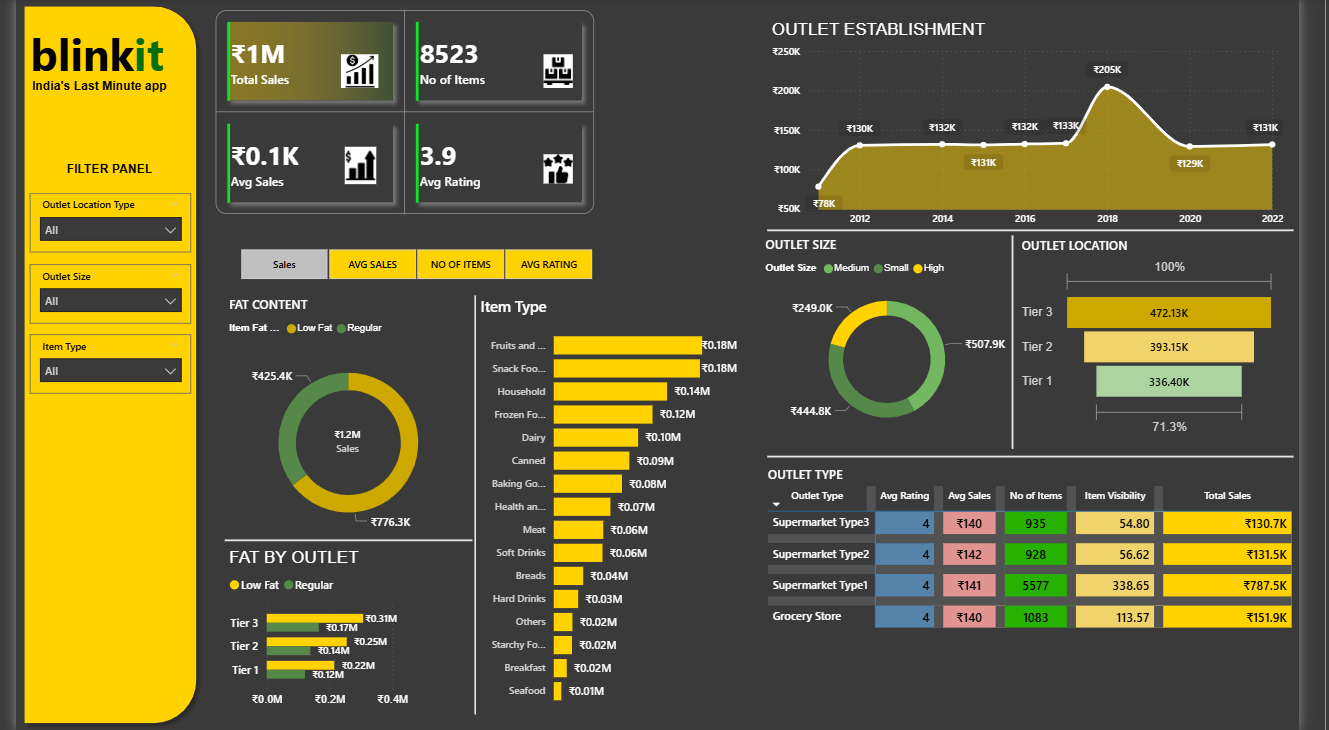

This screenshot's page, from the dashboard's own definition file:
{"tool":"powerbi","page":{"name":"Page 1","canvas":[1400,800],"ordinal":0},"visuals":[{"type":"shape","box":[0,0,205.7,800],"z":0},{"type":"textbox","box":[11,23,174,75],"z":1000},{"type":"textbox","box":[11,83,164,29],"z":2000},{"type":"cardVisual","fields":{"Data":["BlinkIT Grocery Data.Total Sales","BlinkIT Grocery Data.Number of Items","BlinkIT Grocery Data.Average sales","BlinkIT Grocery Data.Average rating"]},"box":[211,7,426,235],"z":3000},{"type":"image","box":[354,61,41,37],"z":4000},{"type":"image","box":[358,162,34,41],"z":5000},{"type":"image","box":[575,171,32,32],"z":6000},{"type":"image","box":[575,61,32,37],"z":7000},{"type":"donutChart","title":"FAT CONTENT","fields":{"Y":["BlinkIT Grocery Data.Total Sales"],"Category":["BlinkIT Grocery Data.Item Fat Content"]},"box":[227,324,270,276],"z":9000},{"type":"slicer","fields":{"Values":["Metrics.Metrics"]},"box":[220,267,433,46],"z":10000},{"type":"cardVisual","fields":{"Data":["BlinkIT Grocery Data.Total Sales"]},"box":[309,455,104,55],"z":11000},{"type":"clusteredBarChart","title":"FAT BY OUTLET ","fields":{"Y":["BlinkIT Grocery Data.Total Sales"],"Category":["BlinkIT Grocery Data.Outlet Location Type"],"Series":["BlinkIT Grocery Data.Item Fat Content"]},"box":[227,600,210,181],"z":12000},{"type":"shape","box":[227,584,270,16],"z":13000},{"type":"shape","box":[340,325,323,457],"z":14000},{"type":"barChart","title":"Item Type ","fields":{"Y":["BlinkIT Grocery Data.Total Sales"],"Category":["BlinkIT Grocery Data.Item Type"]},"box":[502,324,290,457],"z":15000},{"type":"lineChart","title":"OUTLET ESTABLISHMENT ","fields":{"Category":["BlinkIT Grocery Data.Outlet Establishment Year"],"Y":["BlinkIT Grocery Data.Total Sales"]},"box":[819,23,568,235],"z":16000},{"type":"shape","box":[819,245,574,16],"z":17000},{"type":"donutChart","title":"OUTLET SIZE","fields":{"Y":["BlinkIT Grocery Data.Total Sales"],"Category":["BlinkIT Grocery Data.Outlet Size"]},"box":[812,259,275,225],"z":18000},{"type":"shape","box":[949,259,276,233],"z":19000},{"type":"funnel","title":" OUTLET LOCATION","fields":{"Category":["BlinkIT Grocery Data.Outlet Location Type"],"Y":["Sum(BlinkIT Grocery Data.Sales)"]},"box":[1092,261,287,223],"z":20000},{"type":"shape","box":[819,492,574,16],"z":21000},{"type":"pivotTable","title":"OUTLET TYPE ","fields":{"Values":["BlinkIT Grocery Data.Avg Rating","BlinkIT Grocery Data.Avg Sales","BlinkIT Grocery Data.No of Items","Sum(BlinkIT Grocery Data.Item Visibility)","BlinkIT Grocery Data.Total Sales"],"Rows":["BlinkIT Grocery Data.Outlet Type"]},"box":[815,510,581,249],"z":22000},{"type":"slicer","fields":{"Values":["BlinkIT Grocery Data.Outlet Location Type"]},"box":[15,212,176,65],"z":23000},{"type":"slicer","fields":{"Values":["BlinkIT Grocery Data.Outlet Size"]},"box":[15,290,176,65],"z":24000},{"type":"slicer","fields":{"Values":["BlinkIT Grocery Data.Item Type"]},"box":[15,367,176,65],"z":25000},{"type":"textbox","box":[25,174,155,29],"z":26000}]}

Visuals, with their boxes on the page's 1400x800 design canvas (x1, y1, x2, y2). These are canvas units, not pixel positions in the 1329x730 screenshot, which may show the page scaled, cropped or inside an application window:
shape: BBox(0, 0, 206, 800)
textbox: BBox(11, 23, 185, 98)
textbox: BBox(11, 83, 175, 112)
cardVisual - BlinkIT Grocery Data.Total Sales x BlinkIT Grocery Data.Number of Items: BBox(211, 7, 637, 242)
image: BBox(354, 61, 395, 98)
image: BBox(358, 162, 392, 203)
image: BBox(575, 171, 607, 203)
image: BBox(575, 61, 607, 98)
"FAT CONTENT" donutChart: BBox(227, 324, 497, 600)
slicer - Metrics.Metrics: BBox(220, 267, 653, 313)
cardVisual - BlinkIT Grocery Data.Total Sales: BBox(309, 455, 413, 510)
"FAT BY OUTLET " clusteredBarChart: BBox(227, 600, 437, 781)
shape: BBox(227, 584, 497, 600)
shape: BBox(340, 325, 663, 782)
"Item Type " barChart: BBox(502, 324, 792, 781)
"OUTLET ESTABLISHMENT " lineChart: BBox(819, 23, 1387, 258)
shape: BBox(819, 245, 1393, 261)
"OUTLET SIZE" donutChart: BBox(812, 259, 1087, 484)
shape: BBox(949, 259, 1225, 492)
" OUTLET LOCATION" funnel: BBox(1092, 261, 1379, 484)
shape: BBox(819, 492, 1393, 508)
"OUTLET TYPE " pivotTable: BBox(815, 510, 1396, 759)
slicer - BlinkIT Grocery Data.Outlet Location Type: BBox(15, 212, 191, 277)
slicer - BlinkIT Grocery Data.Outlet Size: BBox(15, 290, 191, 355)
slicer - BlinkIT Grocery Data.Item Type: BBox(15, 367, 191, 432)
textbox: BBox(25, 174, 180, 203)
